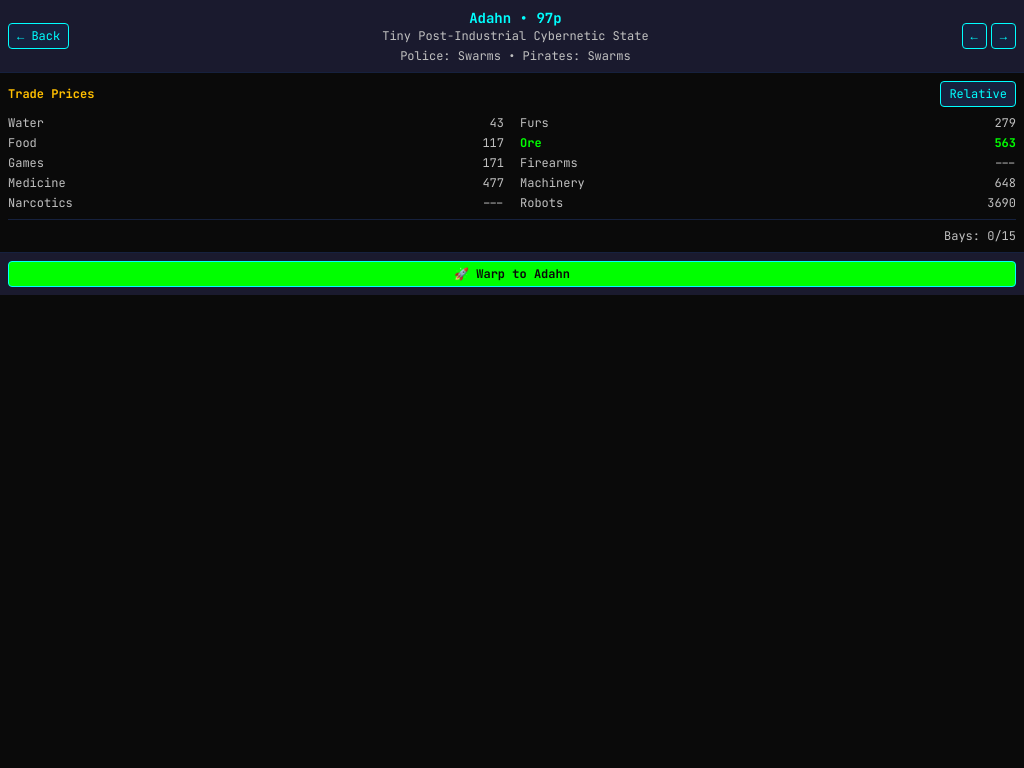
DestinationScreen › Warp Action › should show error modal on warp failure
The image size is (1024, 768).
Click the button with test id "warp-button" at [512, 274], box [8, 261, 1016, 287]
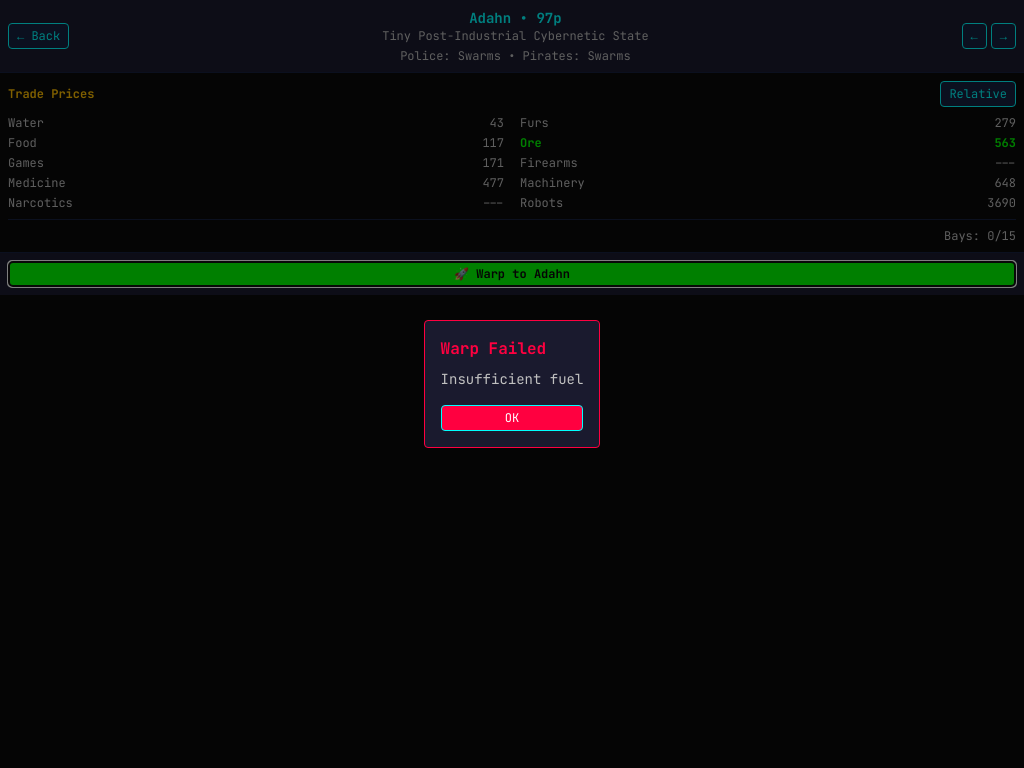
Expected: the element with test id "error-modal" is shown
Expected: the text with test id "error-message" reads "Insufficient fuel", [441, 370, 583, 388]
